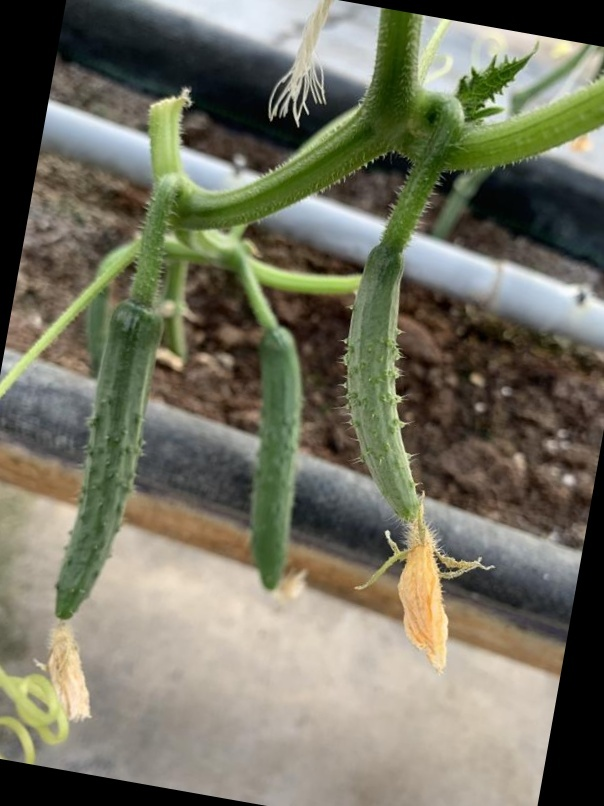bear: (322, 229, 483, 674)
growth: (42, 299, 166, 637), (238, 325, 314, 603)
mature: (239, 327, 314, 605)
